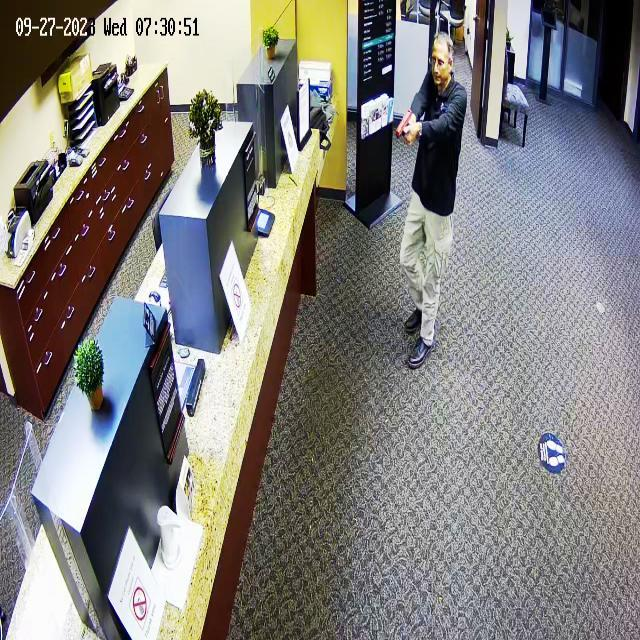Gun: (385, 104, 427, 148)
